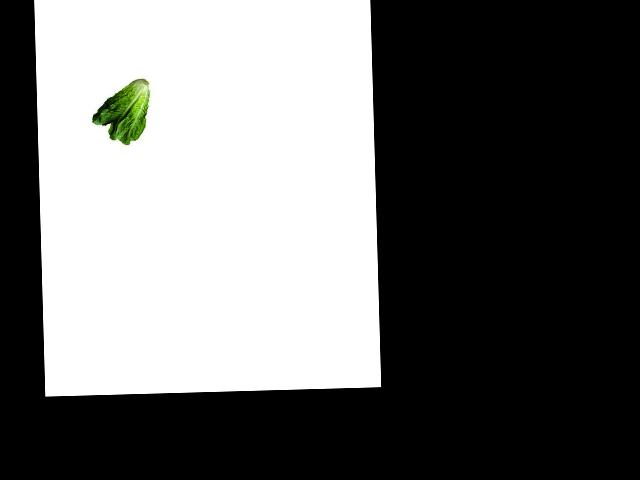lettuce: (88, 74, 156, 145)
